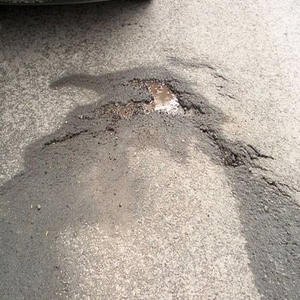pothole: (98, 78, 203, 121)
